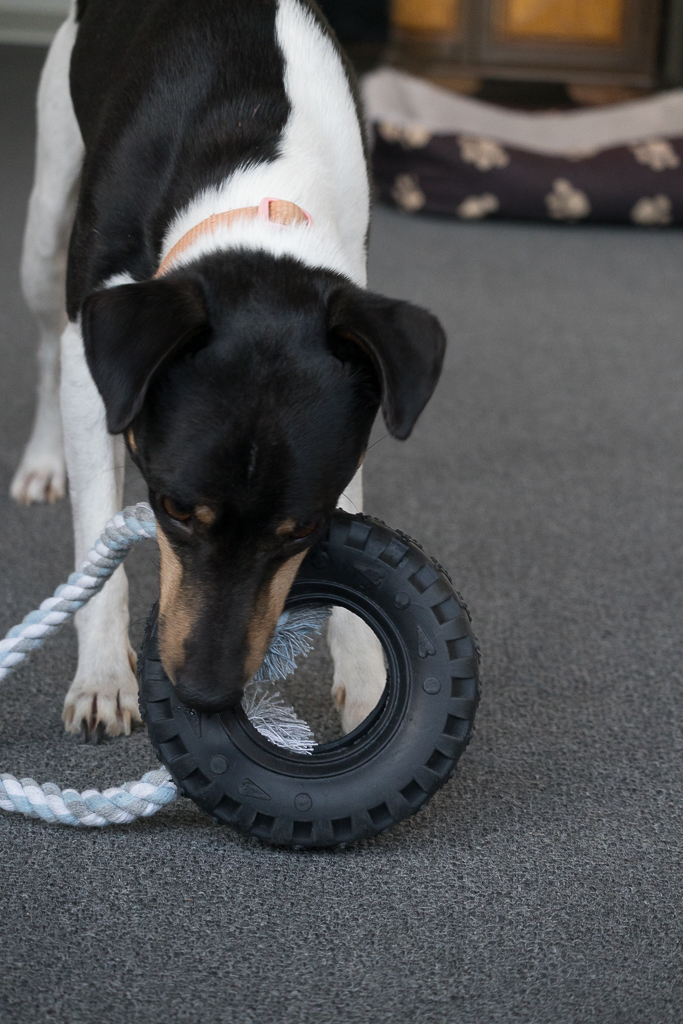Dog: (0, 0, 457, 793)
